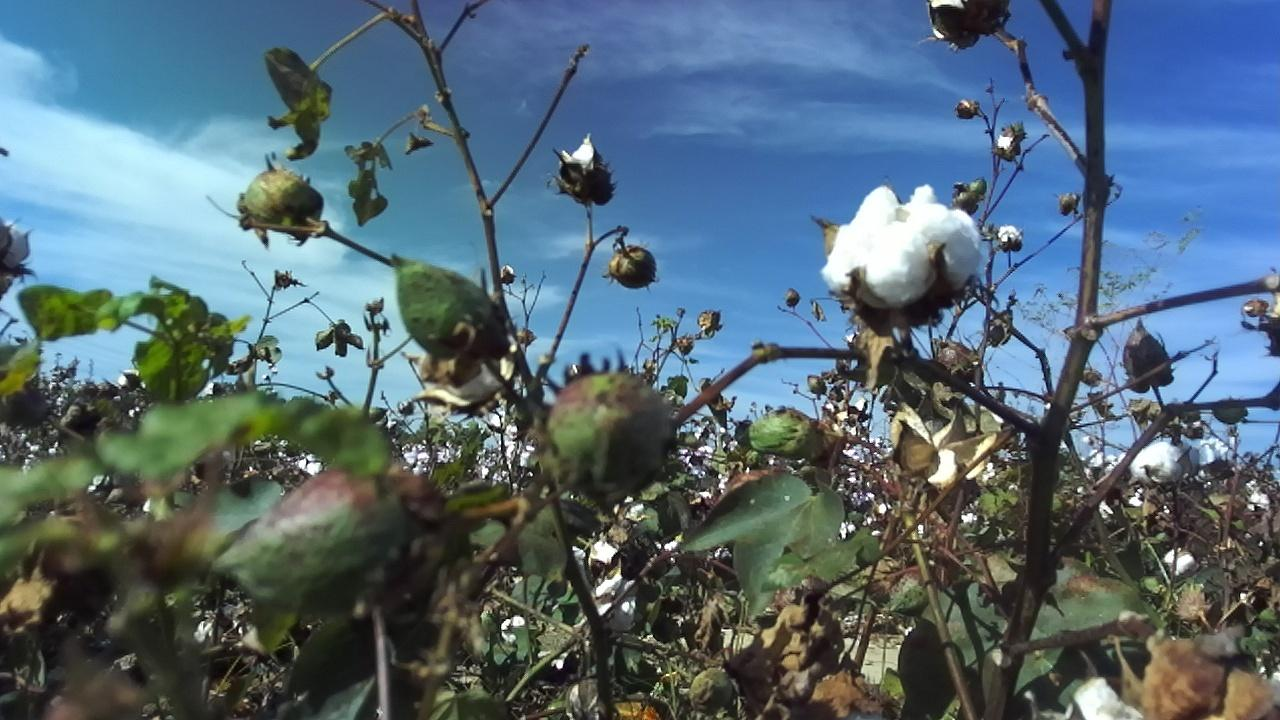cotton_ready: (817, 182, 976, 332), (1062, 677, 1141, 720), (561, 135, 612, 201), (1130, 440, 1183, 485), (922, 0, 973, 46)
